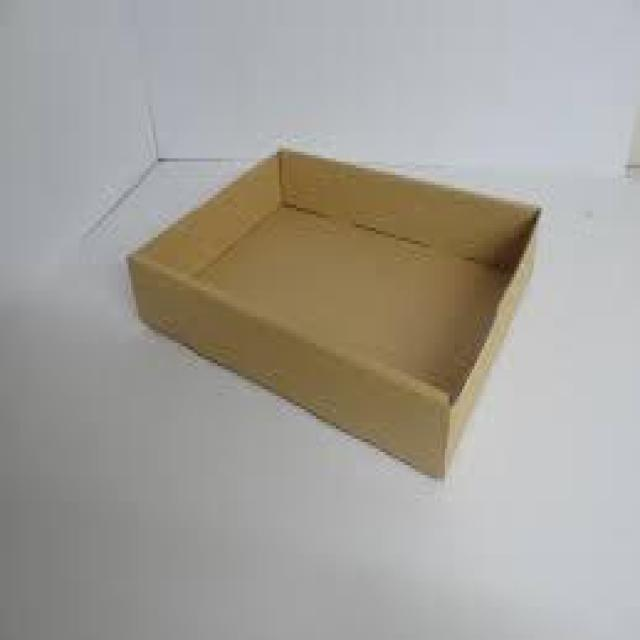Cardboard: (126, 141, 542, 488)
